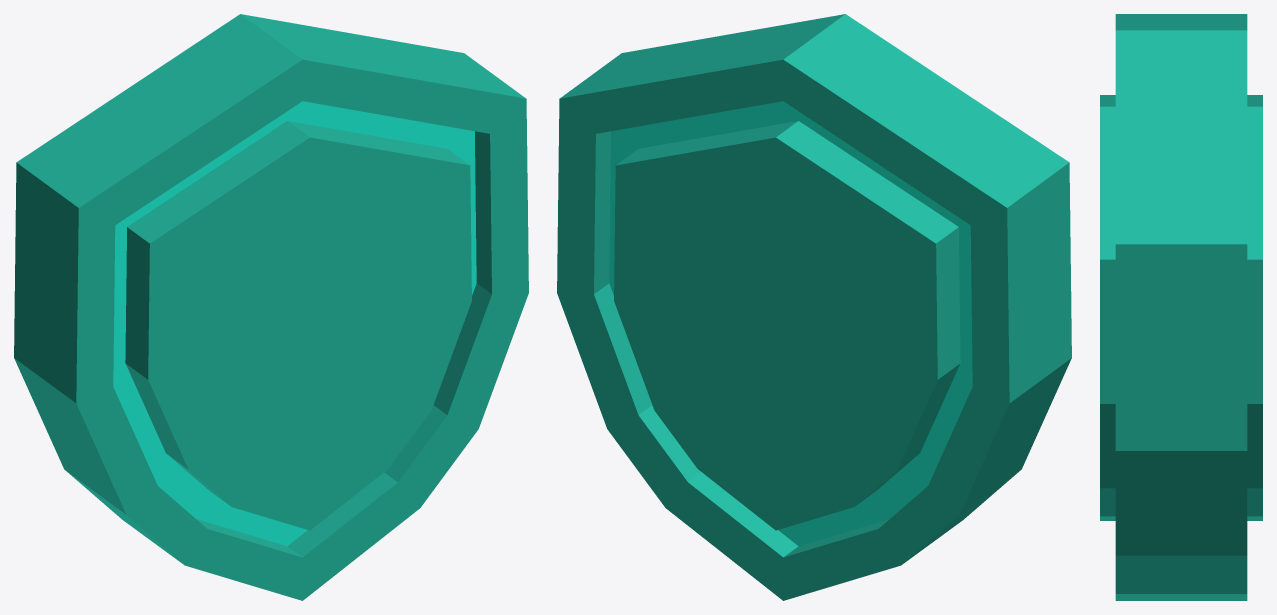
File: Shield.fbx
3 views of the same model, side by side, from view 1: azimuth 30°, elevation 25°; view 2: azimuth 150°, elevation 25°; view 3: azimuth 270°, elevation 25° (orthographic). The views are drawn at different scales.
Parts seen in each view (by area): view 1: Shield; view 2: Shield; view 3: Shield.
Boxes of the visible parts, <box> form: Shield: <box>14,14,528,600</box>; Shield: <box>557,14,1071,600</box>; Shield: <box>1100,14,1262,600</box>.
Bounding box in the file's own units: 175 × 200 × 51.7.
